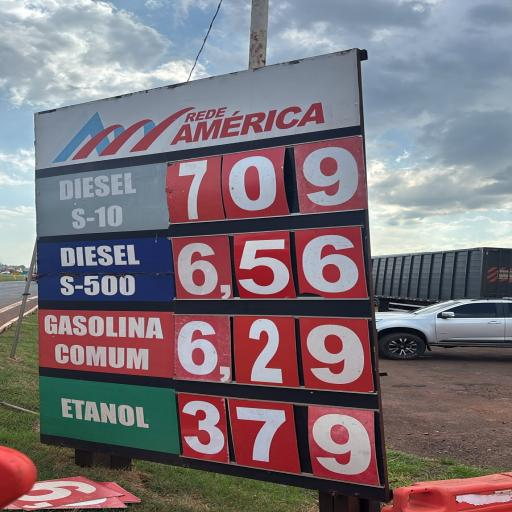ETANOL: (50, 380, 168, 446)
GASOLINA C: (43, 310, 171, 374)
S10: (40, 164, 155, 232)
S500: (47, 238, 158, 304)
placa: (34, 50, 388, 500)
preco: (178, 394, 375, 489), (168, 136, 363, 224), (175, 220, 368, 303), (176, 316, 373, 393)
